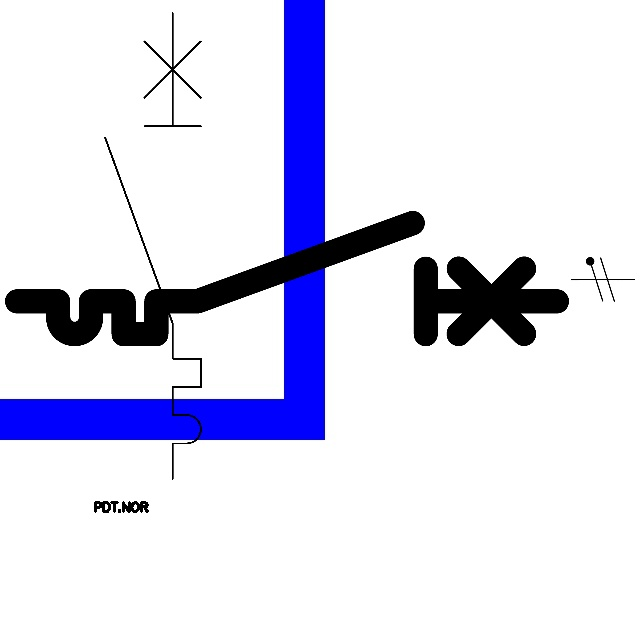interruptor_termomagnetico: (3, 209, 571, 348), (93, 1, 213, 491)
